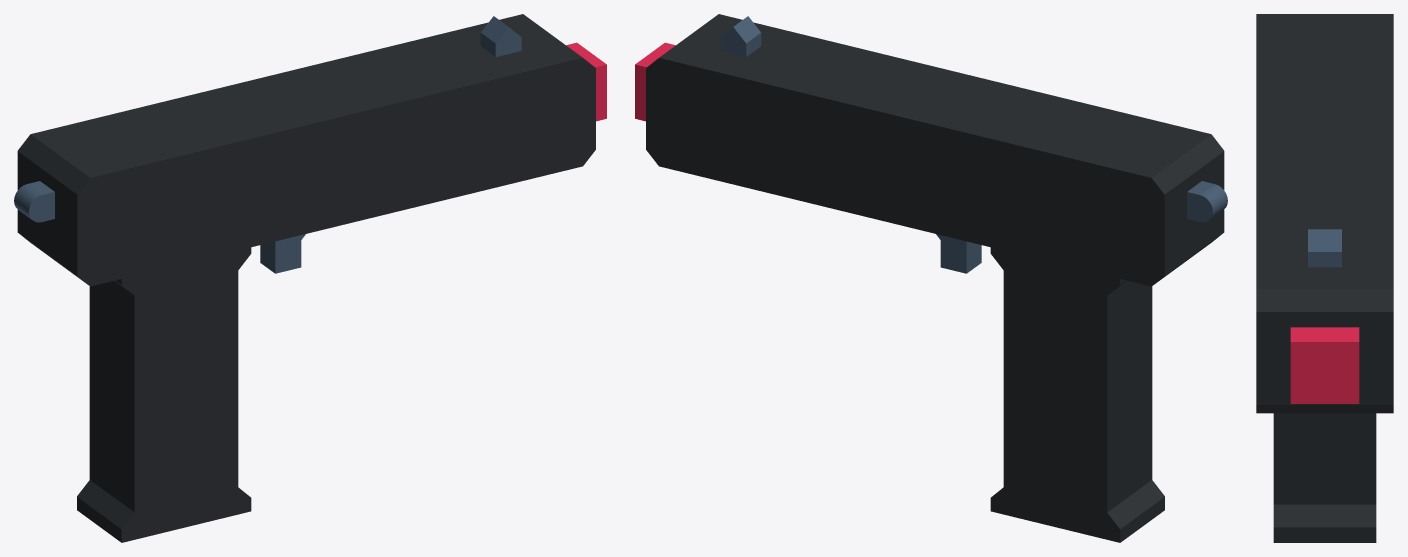
The model's file is pistol.glb.
The picture shows the model from 3 angles, left to right: view 1: azimuth 30°, elevation 25°; view 2: azimuth 150°, elevation 25°; view 3: azimuth 270°, elevation 25°; orthographic projection. The views are drawn at different scales.
Visible parts, largest first — view 1: generated(Clone); view 2: generated(Clone); view 3: generated(Clone).
Boxes of the visible parts, x1=… form: generated(Clone): x1=14, y1=14, x2=606, y2=542; generated(Clone): x1=635, y1=14, x2=1227, y2=542; generated(Clone): x1=1256, y1=14, x2=1393, y2=542.
Size of the model in its own units: 22 by 15 by 4.
Materials: 1 (1 with a texture image).
